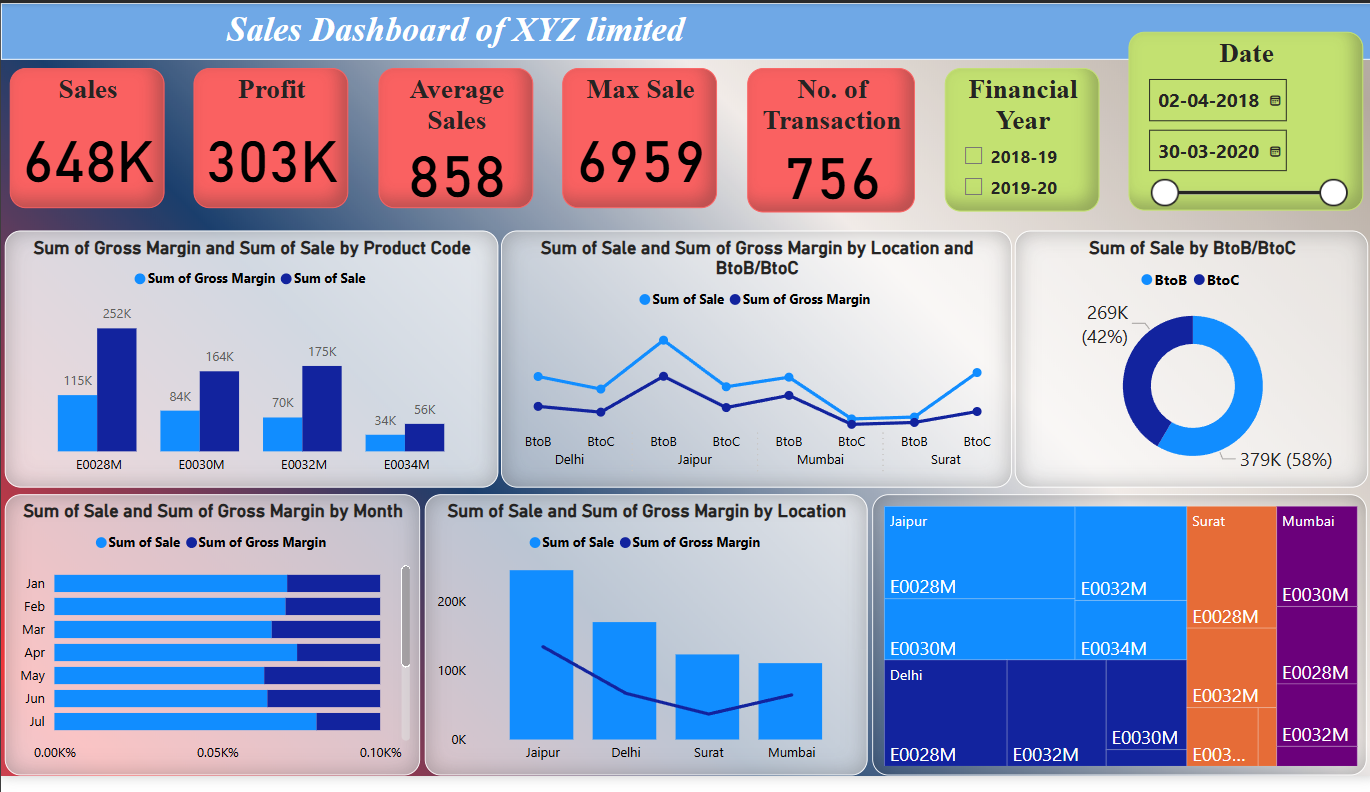

Layout of this report page (visuals, bound fields, positions):
{"tool":"powerbi","page":{"name":"Page 1","canvas":[1280,720],"ordinal":0},"visuals":[{"type":"card","title":"Sales","fields":{"Values":["Sum(Data.Sale)"]},"box":[7.6,60.6,144,130],"z":0},{"type":"card","title":"No. of Transaction ","fields":{"Values":["CountNonNull(Data.Sale)"]},"box":[694.2,60.6,156,134],"z":1000},{"type":"card","title":"Max Sale","fields":{"Values":["Max(Data.Sale)"]},"box":[522.5,60.6,144,130],"z":2000},{"type":"card","title":"Profit","fields":{"Values":["Sum(Data.Gross Margin)"]},"box":[179.2,60.6,144,130],"z":3000},{"type":"card","title":"Average Sales","fields":{"Values":["Avg(Data.Sale)"]},"box":[350.9,60.6,144,130],"z":4000},{"type":"clusteredColumnChart","fields":{"Y":["Sum(Data.Gross Margin)","Sum(Data.Sale)"],"Category":["Data.Product Code"]},"box":[3,212,459,239.2],"z":5000},{"type":"lineClusteredColumnComboChart","fields":{"Y":["Sum(Data.Sale)"],"Category":["Data.Location"],"Y2":["Sum(Data.Gross Margin)"]},"box":[393.6,457.3,411.9,262],"z":6000},{"type":"textbox","box":[0,0,1279.5,53],"z":7000},{"type":"treemap","fields":{"Group":["Data.Location"],"Details":["Data.Product Code"],"Values":["Sum(Data.Sale)"]},"box":[810.1,457.3,460,262],"z":8000},{"type":"donutChart","fields":{"Category":["Data.BtoB/BtoC"],"Y":["Sum(Data.Sale)"]},"box":[943.3,212,329,239.2],"z":9000},{"type":"hundredPercentStackedBarChart","fields":{"Y":["Sum(Data.Sale)","Sum(Data.Gross Margin)"],"Category":["Data.Month"]},"box":[3,457.3,386,262],"z":10000},{"type":"lineChart","fields":{"Category":["Data.Location","Data.BtoB/BtoC"],"Y":["Sum(Data.Sale)","Sum(Data.Gross Margin)"]},"box":[465.2,212,475,239.2],"z":11000},{"type":"slicer","title":"Financial Year ","fields":{"Values":["Data.FY"]},"box":[877.8,60.6,143.8,133.3],"z":12000},{"type":"slicer","title":"Date","fields":{"Values":["Data.Date"]},"box":[1049.3,27.3,218,166.6],"z":13000}]}

Visuals, with their boxes in screenshot pixels (x1, y1, x2, y2), scaled from the page's 1280x720 canvas onto the 1370x792 screenshot:
"Sales" card: 8, 67, 162, 210
"No. of Transaction " card: 743, 67, 910, 214
"Max Sale" card: 559, 67, 713, 210
"Profit" card: 192, 67, 346, 210
"Average Sales" card: 376, 67, 530, 210
clusteredColumnChart - Sum(Data.Gross Margin) x Sum(Data.Sale): 3, 233, 494, 496
lineClusteredColumnComboChart - Sum(Data.Sale) x Data.Location: 421, 503, 862, 791
textbox: 0, 0, 1369, 58
treemap - Data.Location x Data.Product Code: 867, 503, 1359, 791
donutChart - Data.BtoB/BtoC x Sum(Data.Sale): 1010, 233, 1362, 496
hundredPercentStackedBarChart - Sum(Data.Sale) x Sum(Data.Gross Margin): 3, 503, 416, 791
lineChart - Data.Location x Data.BtoB/BtoC: 498, 233, 1006, 496
"Financial Year " slicer: 940, 67, 1093, 213
"Date" slicer: 1123, 30, 1356, 213
